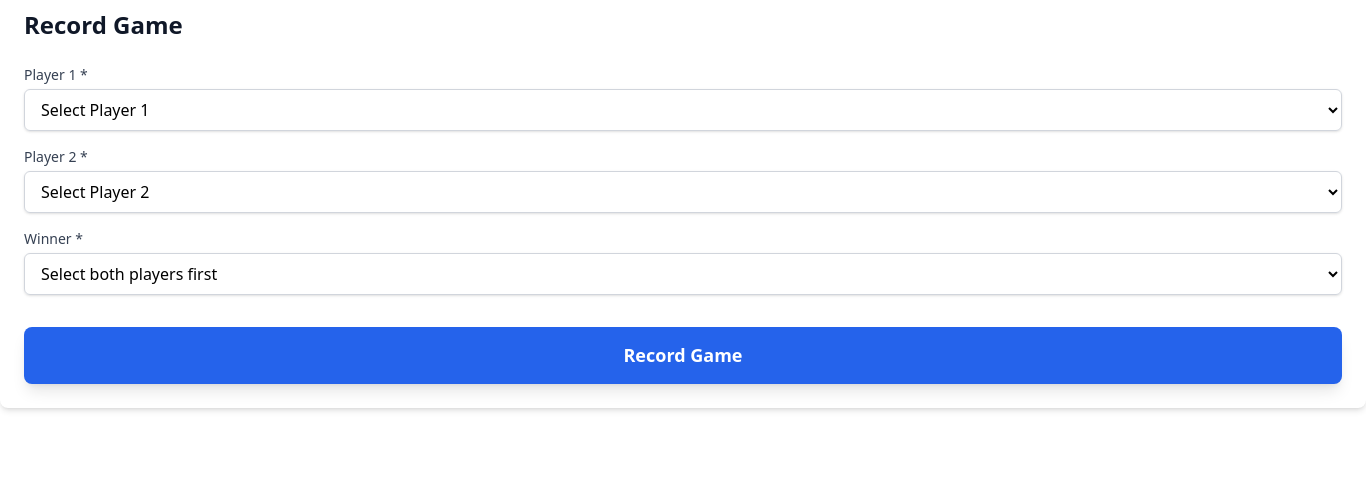
AddGameForm Integration Tests › handles API errors gracefully
Select "Rookie Player" in the dropdown labelled "Player 1 *" at [683, 110], box [24,89,1342,131]
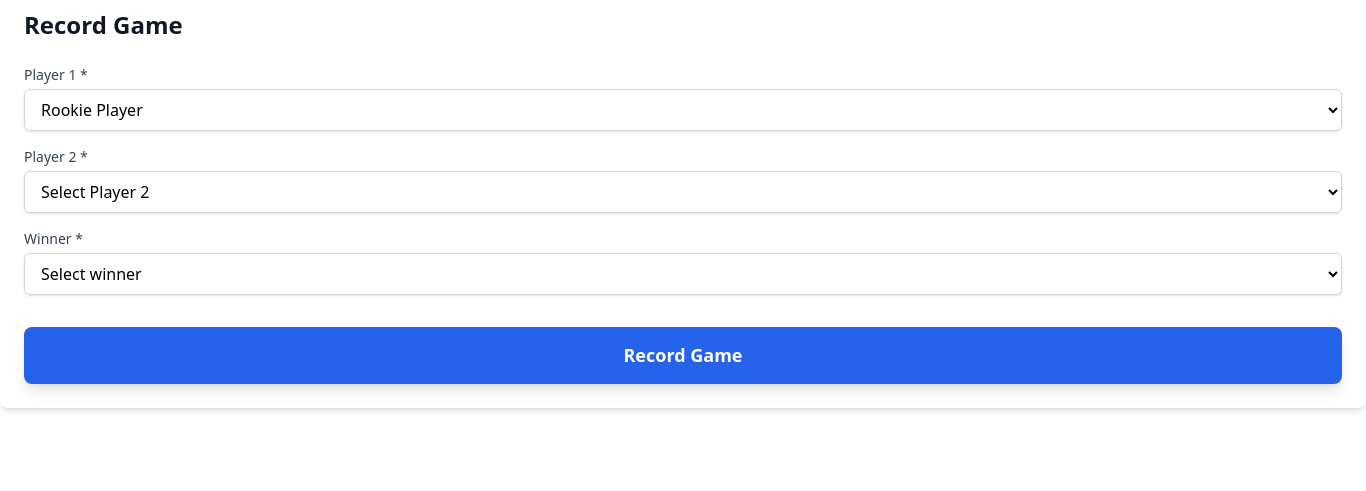
Select "Pro Player" in the dropdown labelled "Player 2 *" at [683, 192], box [24,171,1342,213]
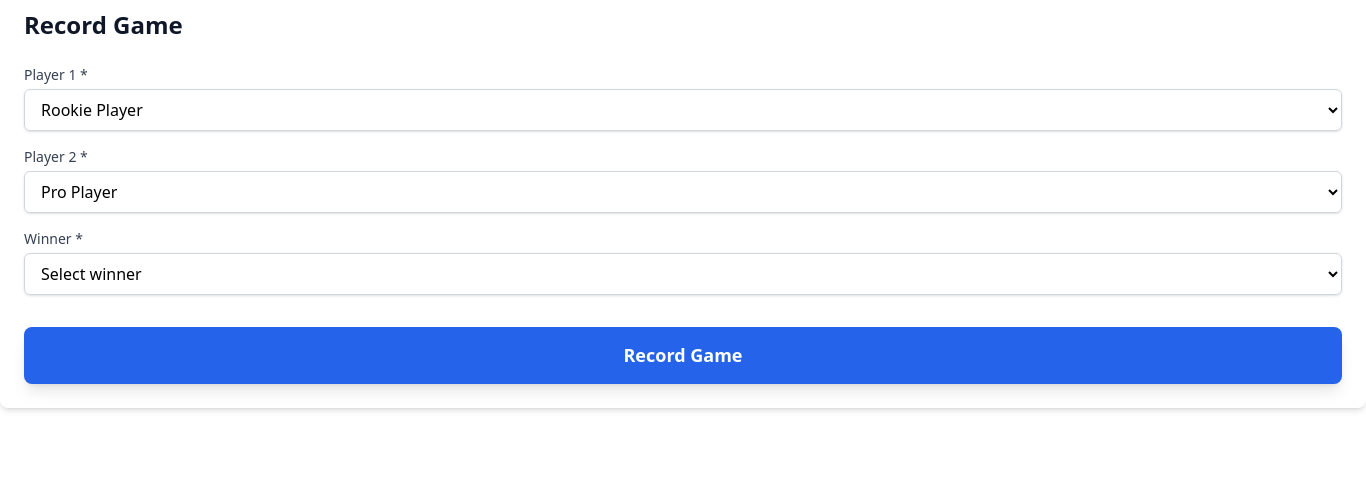
Select "Rookie Player" in the dropdown labelled "Winner *" at [683, 274], box [24,253,1342,295]
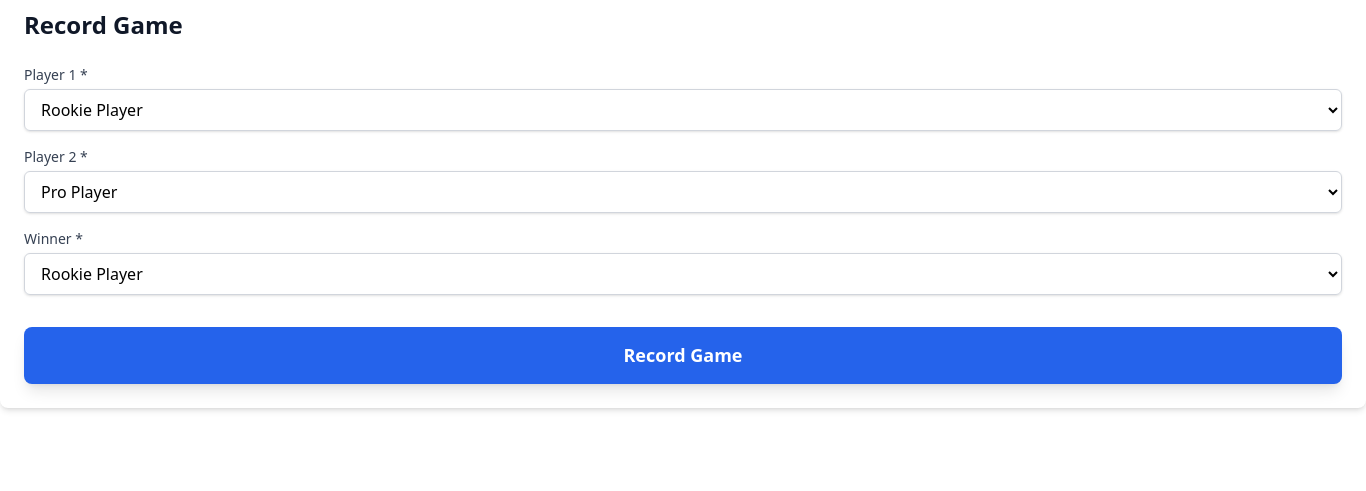
Note: Submit form
Click the button "Record Game" at [683, 355], box [24,327,1342,384]
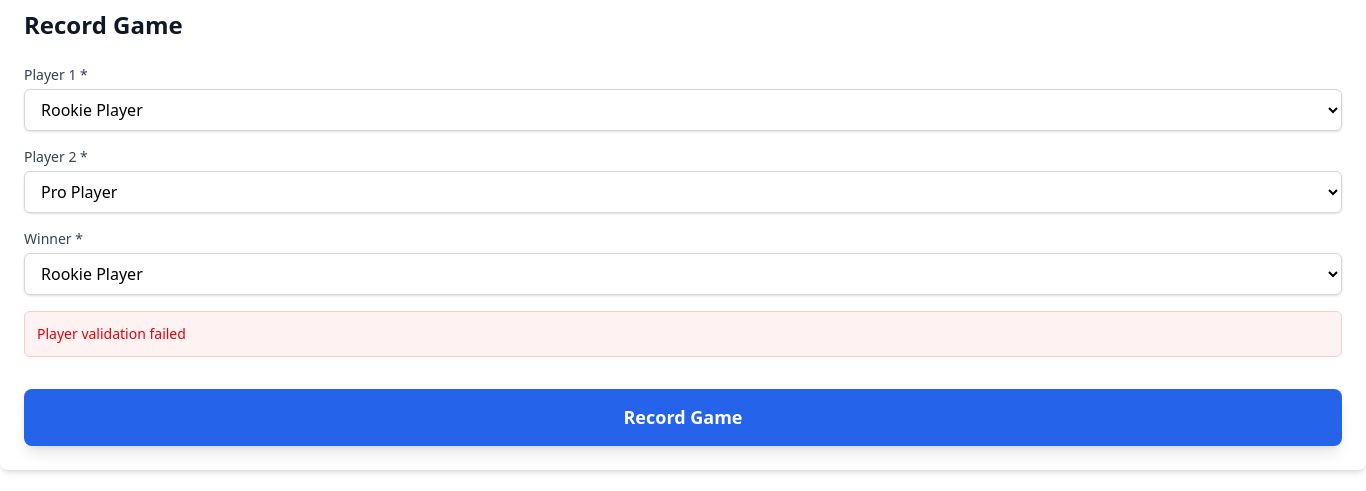
Result: the text "Player validation failed" is shown at [37,324,186,343]
